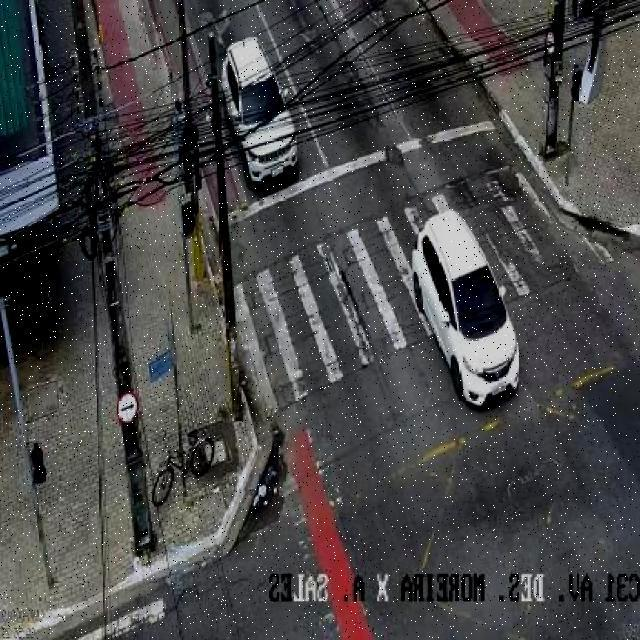Car: (411, 210, 530, 409), (220, 37, 310, 187)
Cycle: (152, 437, 225, 507)
